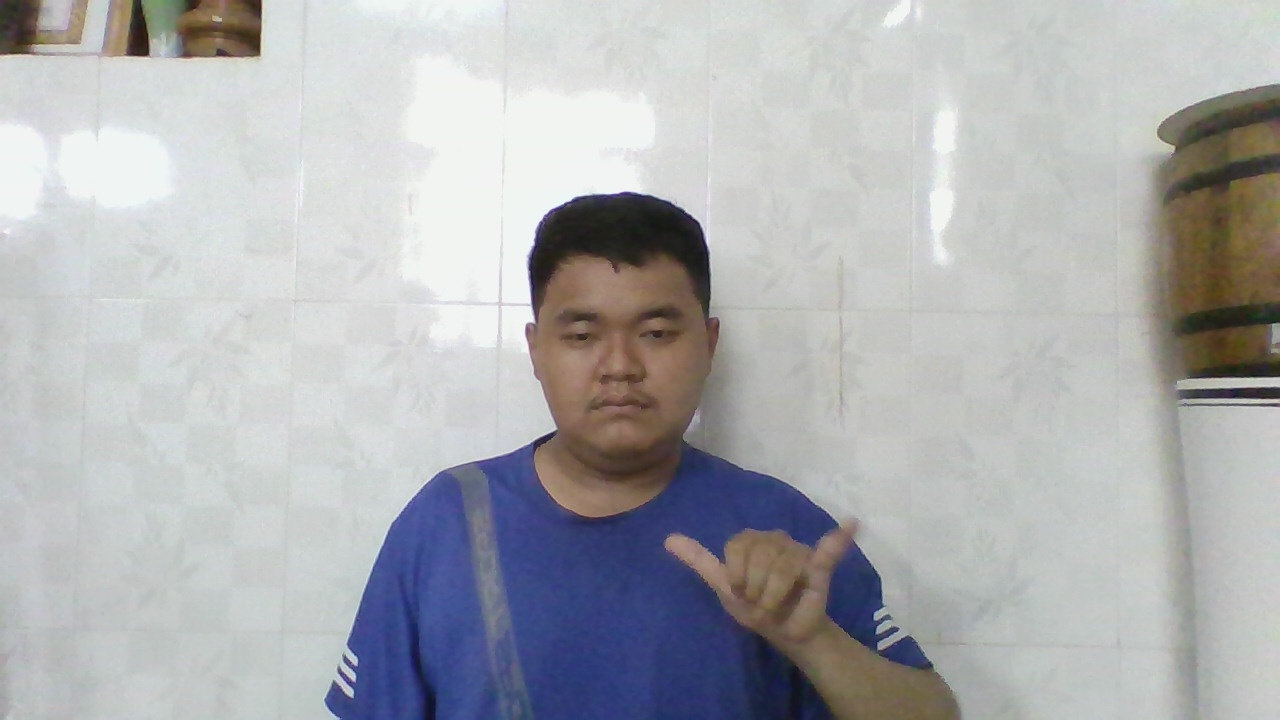Y: (656, 510, 870, 654)
